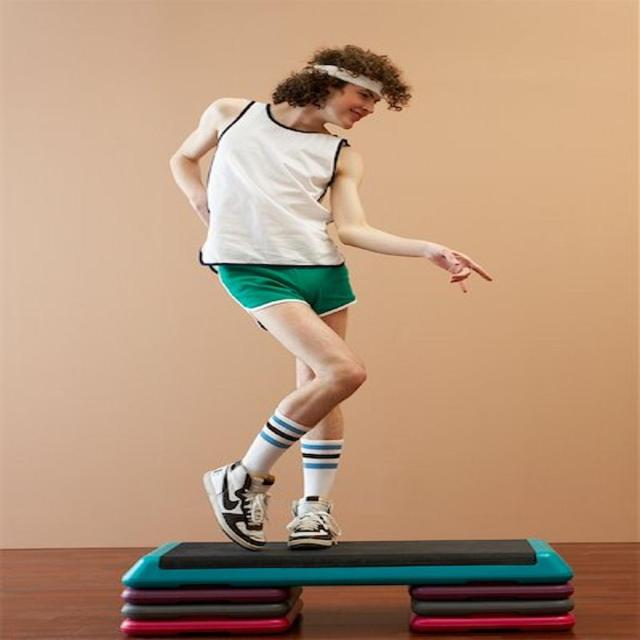Face: (331, 68, 389, 142)
